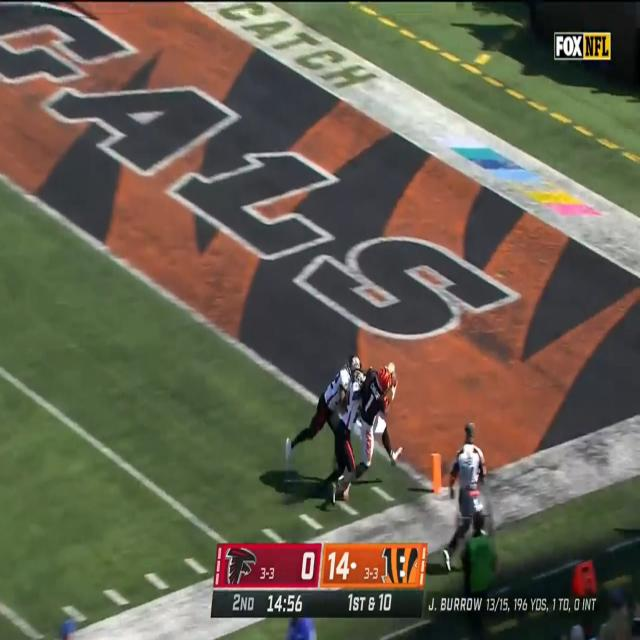Ball: (391, 371, 398, 390)
